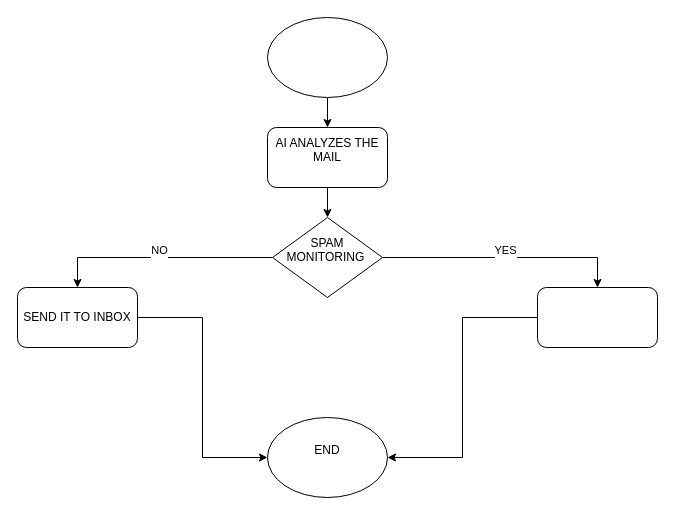
Some shapes in this 675 by 515 pixel diagram are drawn without their labels. The shapes that lost their labels are listed below. From the top down, each one's box as (x1, y1, x2, y2) in pixels, then its label:
(266, 16, 388, 98): EMIAL INBOX
(536, 286, 658, 348): SEND IT TO SPAM
